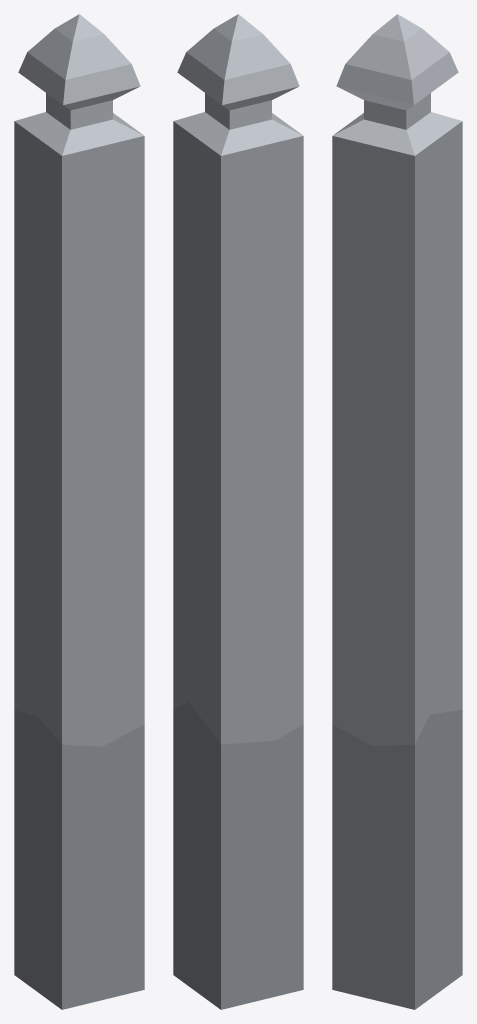
The model's file is SM_Prop_Fence_Fancy_Pole_Spike_02.glb.
3 renders of one model, left to right at view 1: azimuth 30°, elevation 25°; view 2: azimuth 210°, elevation 25°; view 3: azimuth 330°, elevation 25°, orthographic.
Visible parts, largest first — view 1: SM_Prop_Fence_Fancy_Pole_Spike_02; view 2: SM_Prop_Fence_Fancy_Pole_Spike_02; view 3: SM_Prop_Fence_Fancy_Pole_Spike_02.
Part boxes in pixels (x1=…): SM_Prop_Fence_Fancy_Pole_Spike_02: x1=14, y1=14, x2=144, y2=1009; SM_Prop_Fence_Fancy_Pole_Spike_02: x1=173, y1=14, x2=303, y2=1009; SM_Prop_Fence_Fancy_Pole_Spike_02: x1=332, y1=14, x2=462, y2=1009.
Bounding box in the file's own units: 0.1683 × 1.89 × 0.1683.
1 material, 1 textured.
